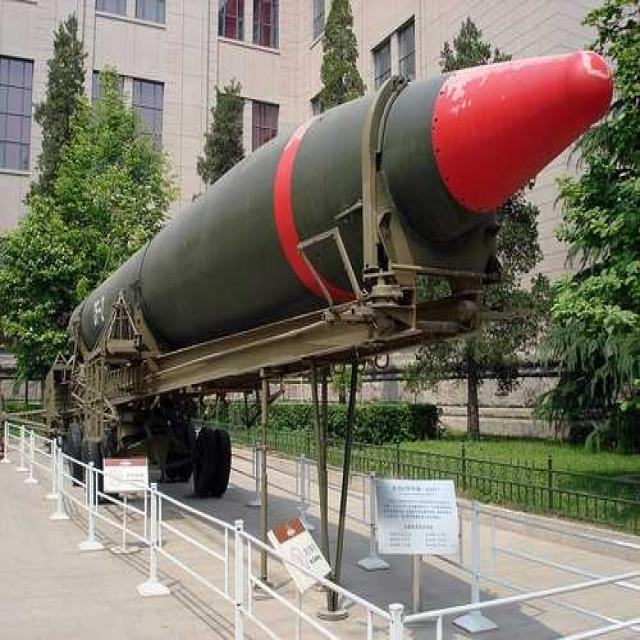missile: (49, 43, 622, 390)
